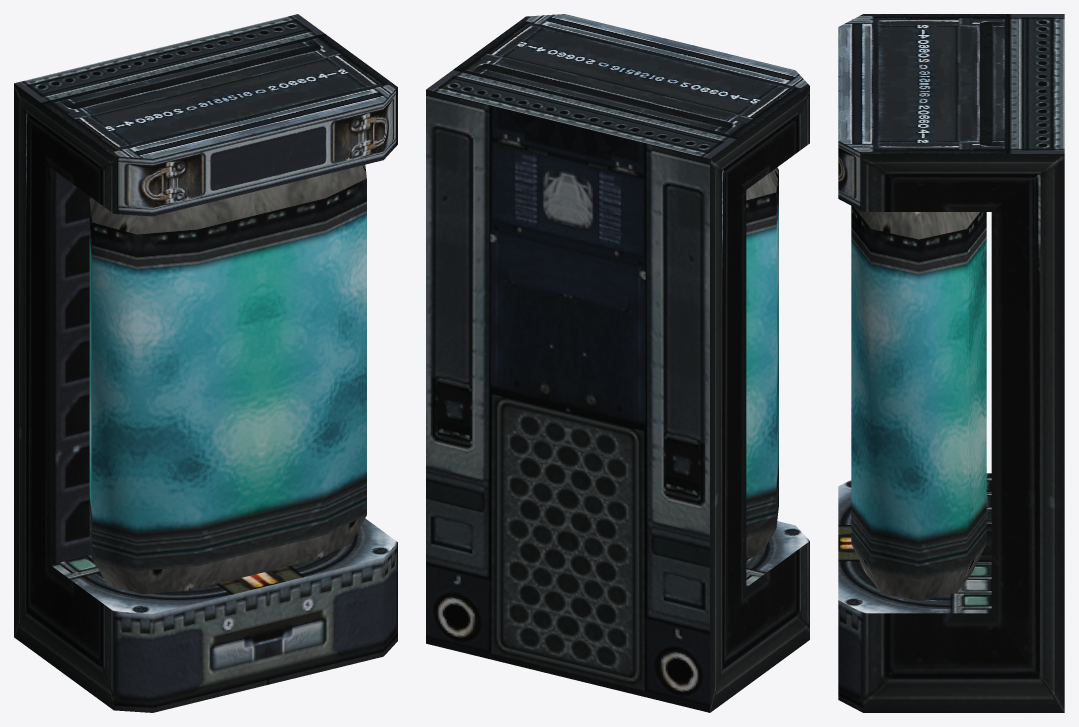
Rendered from Battery_small_08.FBX.
3 views of the same model, side by side, from view 1: azimuth 30°, elevation 25°; view 2: azimuth 150°, elevation 25°; view 3: azimuth 270°, elevation 25° (orthographic).
Parts seen in each view (by area): view 1: Battery_small_08; view 2: Battery_small_08; view 3: Battery_small_08.
Boxes of the visible parts, x1,y1,x2,y2 form: Battery_small_08: (14,14,397,712); Battery_small_08: (426,14,809,712); Battery_small_08: (838,14,1064,712).
Size of the model in its own units: 88.96 by 166 by 60.83.
